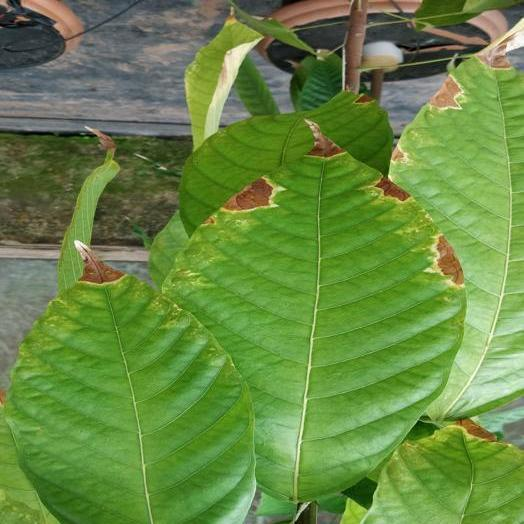Potassium: (163, 120, 465, 502), (5, 244, 255, 523), (390, 45, 523, 418)
